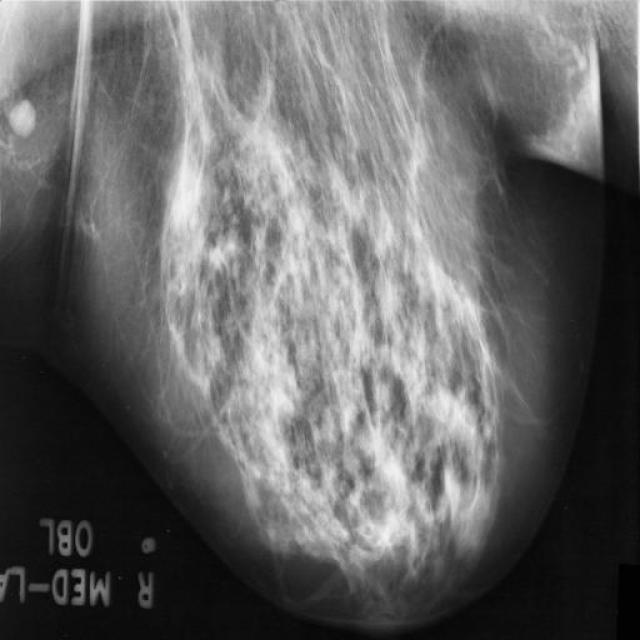cancer: (248, 323, 320, 458)
